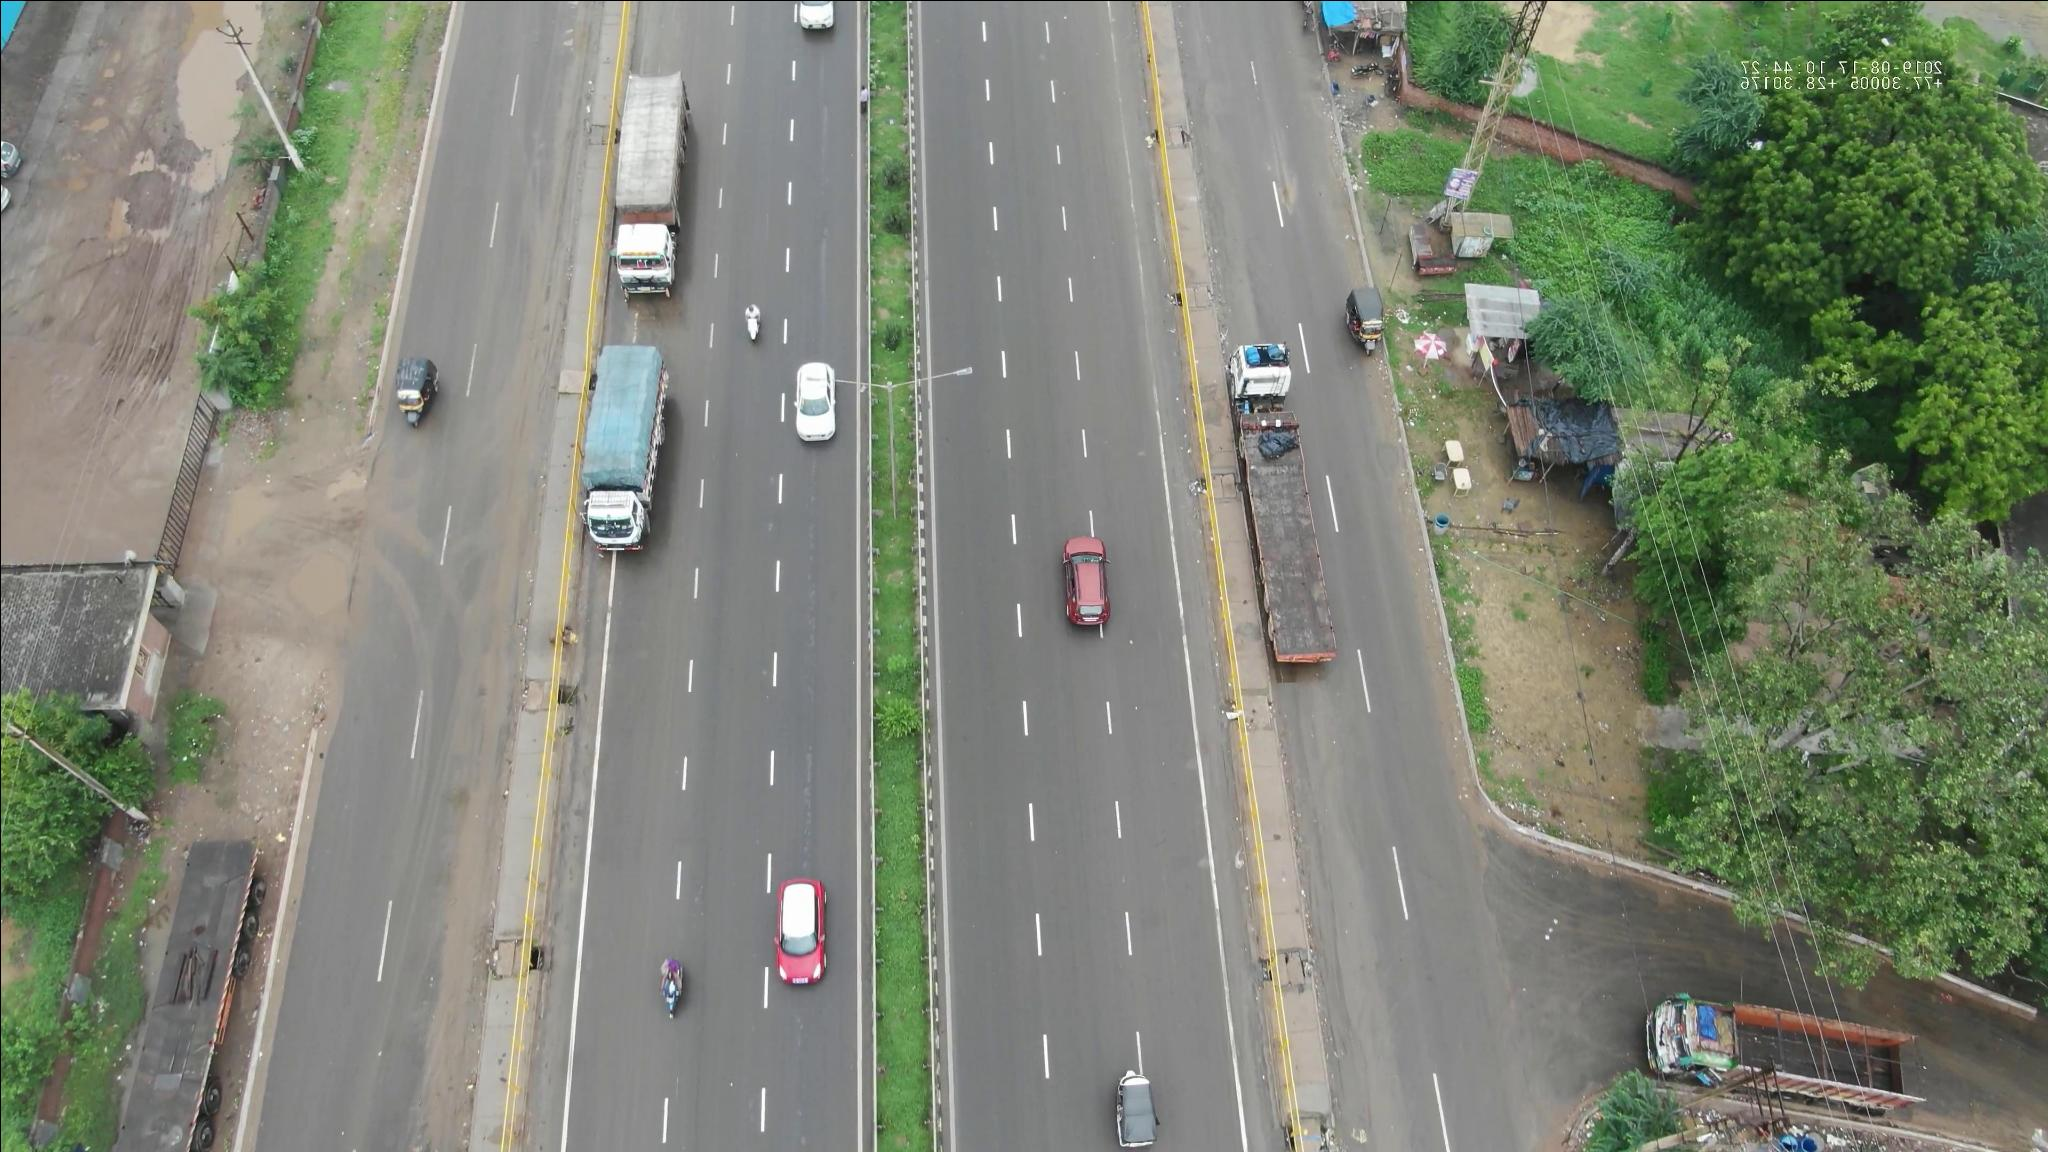Muddy_road: (470, 601, 520, 745)
Waterlogging: (93, 8, 260, 264)
